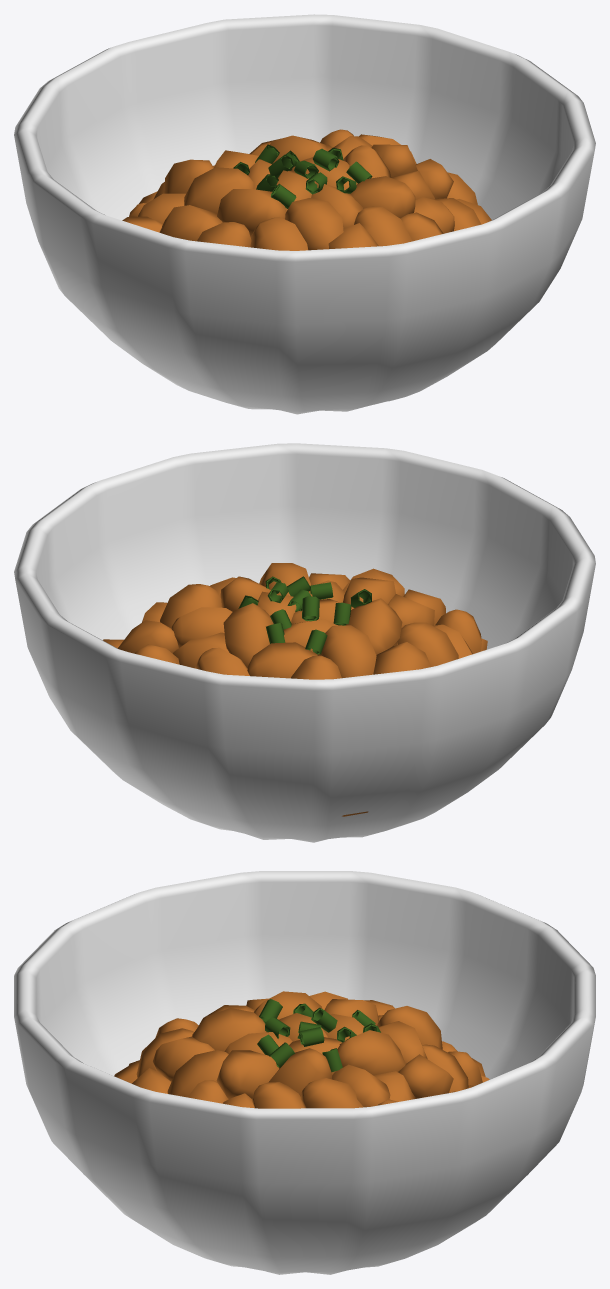
The model's file is nattoudayo.fbx.
3 renders of one model, top to bottom at view 1: azimuth 30°, elevation 25°; view 2: azimuth 150°, elevation 25°; view 3: azimuth 270°, elevation 25°, orthographic.
Visible parts, largest first — view 1: pCube4, pSphere109, pSphere97, pSphere77, pSphere110, pSphere61, pSphere96, pSphere108, pSphere64, pSphere112, pSphere76, pSphere82 (+13 smaller); view 2: pCube4, pSphere77, pSphere80, pSphere97, pSphere78, pSphere76, pSphere81, pSphere82, pSphere61, pSphere72, pSphere68, pSphere94 (+9 smaller); view 3: pCube4, pSphere80, pSphere110, pSphere109, pSphere111, pSphere108, pSphere68, pSphere82, pSphere107, pSphere81, pSphere64, pSphere92 (+10 smaller).
Boxes of the visible parts, x1,y1,x2,y2 form: pCube4: (14, 14, 595, 414); pSphere109: (285, 198, 343, 250); pSphere97: (217, 189, 285, 236); pSphere77: (184, 167, 253, 213); pSphere110: (351, 176, 415, 217); pSphere61: (159, 205, 222, 241); pSphere96: (250, 217, 308, 250); pSphere108: (354, 206, 412, 246); pSphere64: (164, 159, 213, 193); pSphere112: (311, 184, 362, 228); pSphere76: (197, 222, 251, 247); pSphere82: (371, 144, 417, 177); pCube4: (14, 443, 595, 842); pSphere77: (317, 625, 376, 678); pSphere80: (223, 603, 273, 668); pSphere97: (346, 598, 402, 654); pSphere78: (247, 642, 317, 678); pSphere76: (397, 622, 458, 667); pSphere81: (171, 607, 232, 647); pSphere82: (160, 584, 221, 627); pSphere61: (373, 642, 430, 674); pSphere72: (118, 620, 178, 653); pSphere68: (195, 647, 249, 675); pSphere94: (435, 609, 481, 653); pCube4: (14, 871, 595, 1274); pSphere80: (337, 1030, 405, 1075); pSphere110: (216, 1050, 278, 1099); pSphere109: (192, 1008, 266, 1051); pSphere111: (269, 1048, 332, 1096); pSphere108: (167, 1050, 228, 1097); pSphere68: (398, 1054, 453, 1098); pSphere82: (300, 1078, 363, 1108); pSphere107: (153, 1036, 214, 1081); pSphere81: (332, 1064, 390, 1107); pSphere64: (377, 1006, 442, 1049); pSphere92: (252, 1082, 304, 1108).
Size of the model in its own units: 1.55 by 0.6942 by 1.55.
Materials: 2 (2 with a texture image).
